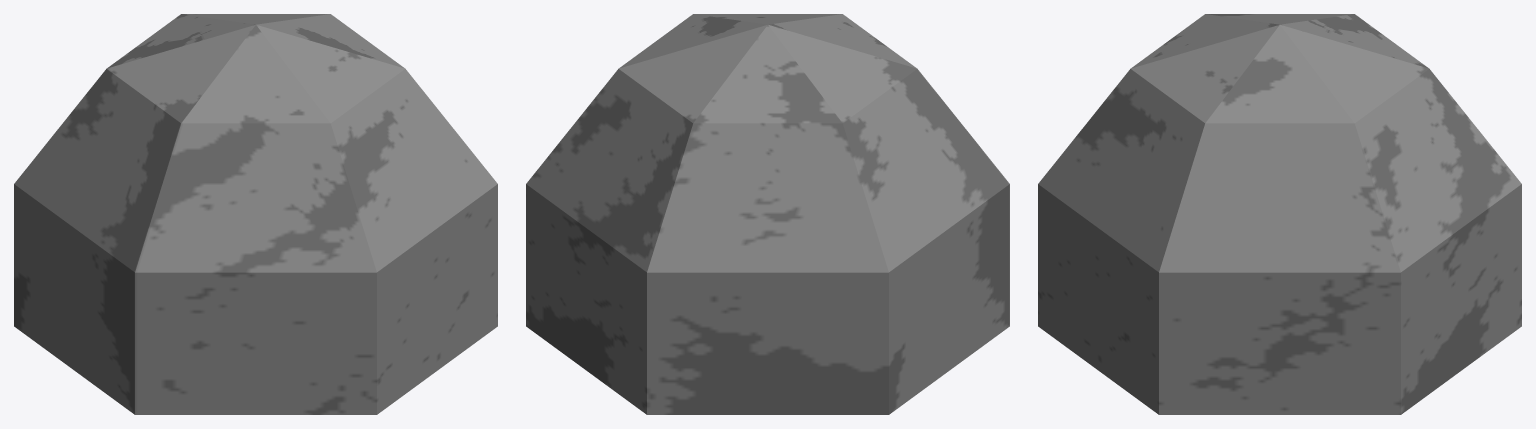
File: KamykDwa.fbx
The picture shows the model from 3 angles, left to right: view 1: azimuth 30°, elevation 25°; view 2: azimuth 150°, elevation 25°; view 3: azimuth 270°, elevation 25°; orthographic projection.
Visible parts, largest first — view 1: Sphere; view 2: Sphere; view 3: Sphere.
Boxes of the visible parts, box(x1,y1,x2,y2) form: Sphere: box(14, 14, 497, 414); Sphere: box(526, 14, 1009, 414); Sphere: box(1038, 14, 1521, 414).
Bounding box in the file's own units: 165 × 131 × 190.
